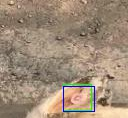text: (63, 84, 91, 110)
